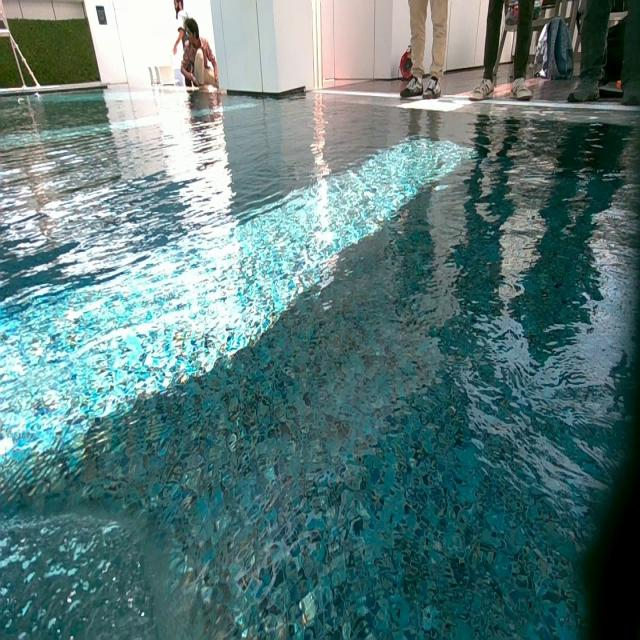Cans: (35, 92, 40, 100), (18, 98, 24, 104)
